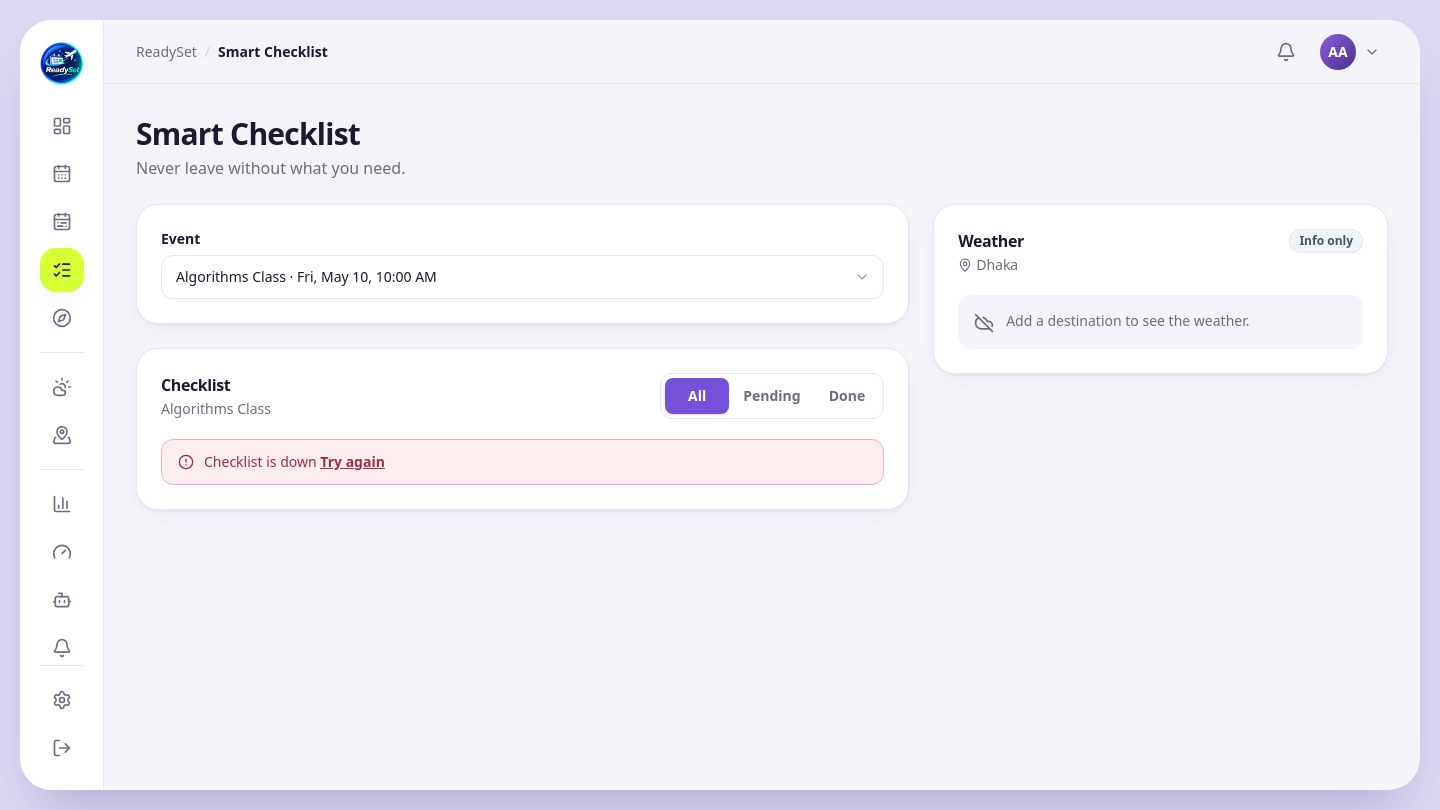
Test: Smart Checklist page (database-backed) › shows an error with a retry when the checklist cannot be loaded
Expected: the text "Checklist is down Try again" is shown, [204, 452, 385, 472]
Click the button "Try again": [353, 462] box [320, 452, 385, 472]
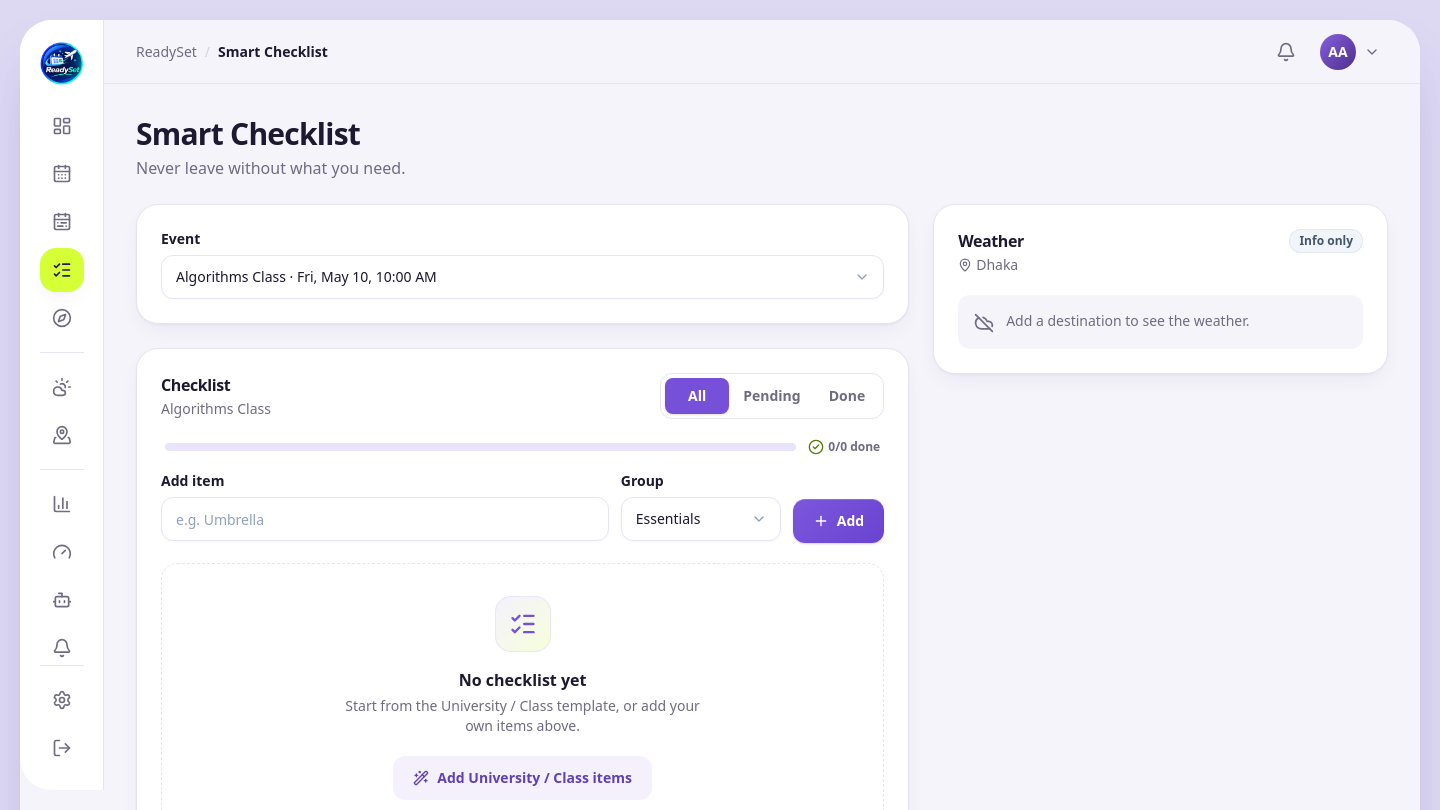
Expected: the heading "No checklist yet" is shown, [459, 668, 586, 692]
